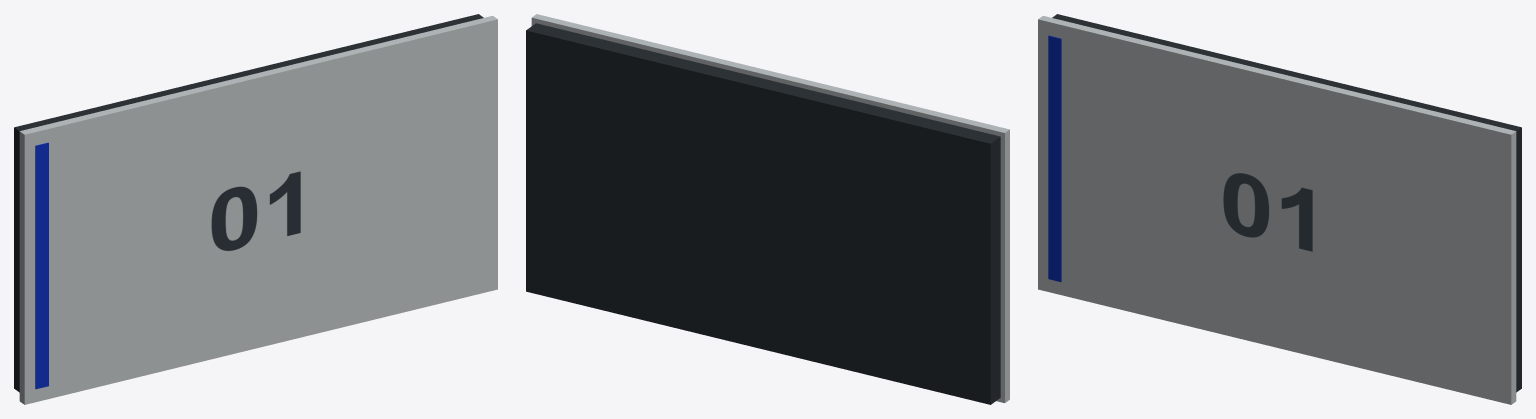
Rendered from doorPlaque-2.glb.
The picture shows the model from 3 angles, left to right: view 1: azimuth 30°, elevation 25°; view 2: azimuth 150°, elevation 25°; view 3: azimuth 330°, elevation 25°; orthographic projection.
Visible parts, largest first — view 1: doorPlaque_Matte anodised aluminium, doorPlaque_Graphite edge profile, doorPlaque_EDS selected finish, DoorPlaque_Label; view 2: doorPlaque_Graphite edge profile, doorPlaque_Matte anodised aluminium; view 3: doorPlaque_Matte anodised aluminium, doorPlaque_Graphite edge profile, doorPlaque_EDS selected finish, DoorPlaque_Label.
Boxes of the visible parts, bbox=[...] form: doorPlaque_Matte anodised aluminium: bbox=[19, 16, 497, 404]; doorPlaque_Graphite edge profile: bbox=[14, 14, 483, 392]; doorPlaque_EDS selected finish: bbox=[35, 142, 48, 389]; DoorPlaque_Label: bbox=[211, 171, 300, 250]; doorPlaque_Graphite edge profile: bbox=[526, 23, 1000, 404]; doorPlaque_Matte anodised aluminium: bbox=[531, 14, 1009, 402]; doorPlaque_Matte anodised aluminium: bbox=[1038, 16, 1516, 404]; doorPlaque_Graphite edge profile: bbox=[1052, 14, 1521, 392]; doorPlaque_EDS selected finish: bbox=[1048, 35, 1061, 281]; DoorPlaque_Label: bbox=[1223, 173, 1312, 251].
Size of the model in its own units: 0.22 by 0.12 by 0.0126.
Materials: 4 (1 with a texture image).
